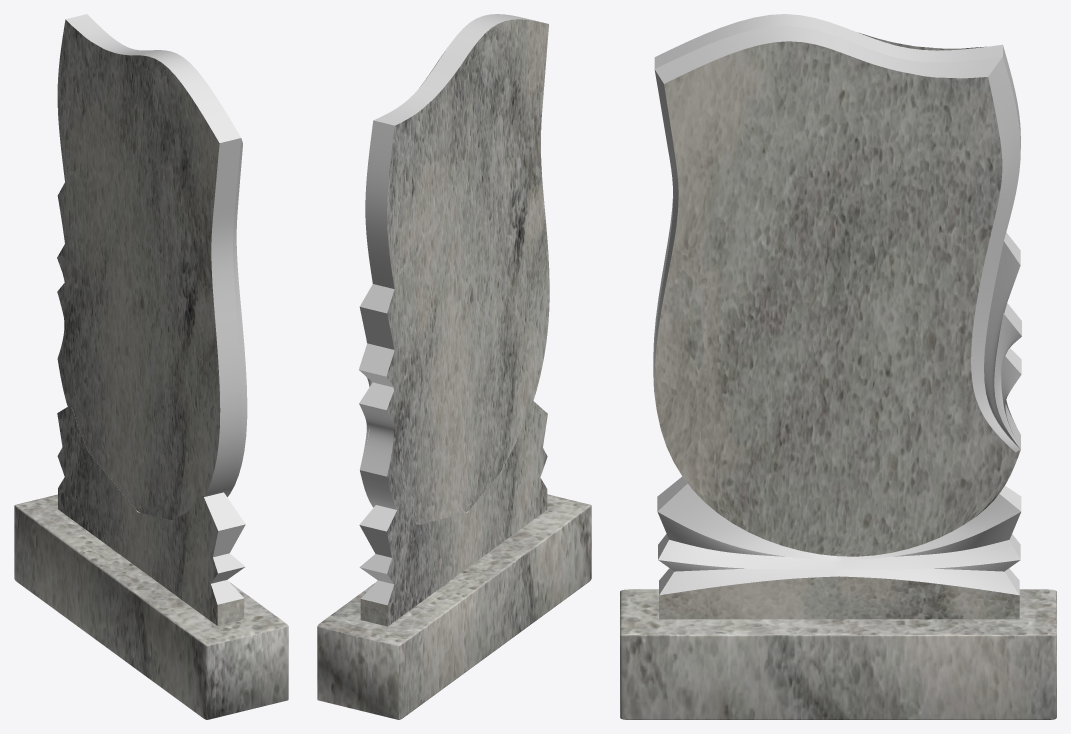
The model's file is Резной [marble_1_standard] (100).glb.
3 views of the same model, side by side, from view 1: azimuth 30°, elevation 25°; view 2: azimuth 150°, elevation 25°; view 3: azimuth 270°, elevation 25° (orthographic). The views are drawn at different scales.
Visible parts, largest first — view 1: Cube.005, Куб.009, Cube.006; view 2: Cube.005, Куб.009, Cube.006; view 3: Cube.005, Куб.009, Cube.006.
Part boxes in pixels (bbox=[...]): Cube.005: bbox=[57, 14, 247, 519]; Куб.009: bbox=[14, 494, 288, 719]; Cube.006: bbox=[57, 405, 245, 625]; Cube.005: bbox=[359, 14, 549, 524]; Куб.009: bbox=[317, 494, 591, 719]; Cube.006: bbox=[359, 400, 547, 626]; Cube.005: bbox=[653, 14, 1021, 556]; Куб.009: bbox=[620, 589, 1056, 719]; Cube.006: bbox=[657, 476, 1021, 619].
Size of the model in its own units: 0.15 by 1.03 by 0.6.
Materials: 2 (1 with a texture image).
